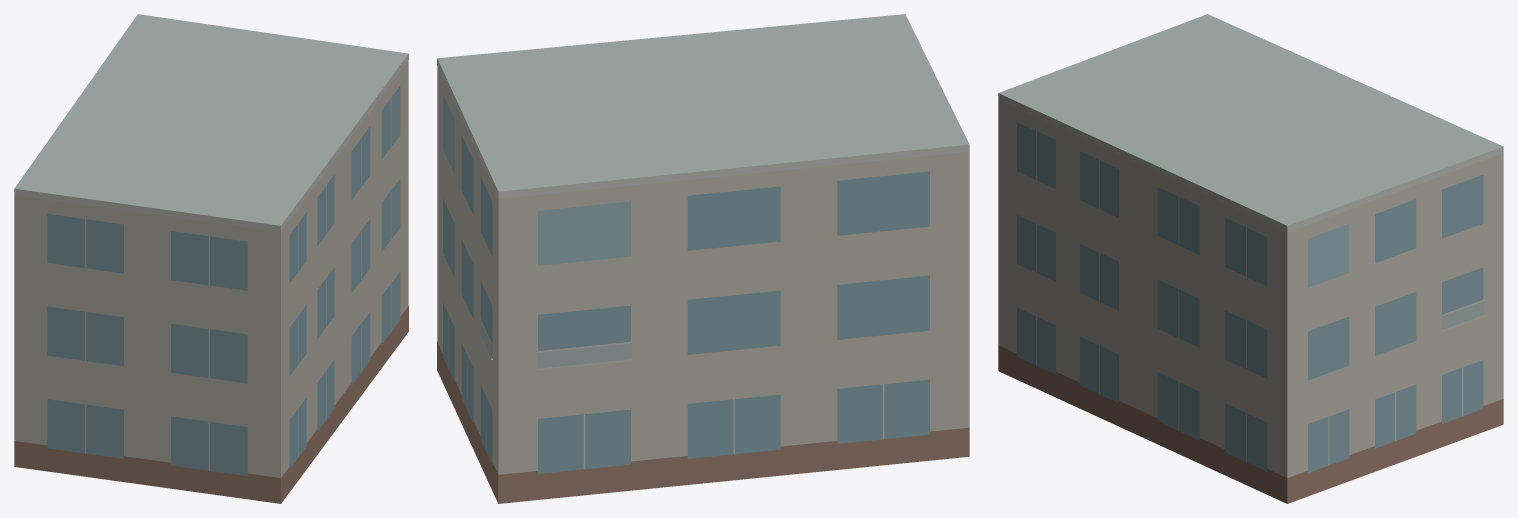
The model's file is survey-upis-32839589.glb.
3 views of the same model, side by side, from view 1: azimuth 30°, elevation 25°; view 2: azimuth 150°, elevation 25°; view 3: azimuth 270°, elevation 25° (orthographic). The views are drawn at different scales.
Parts seen in each view (by area): view 1: survey-upis-32839589.tmp; view 2: survey-upis-32839589.tmp; view 3: survey-upis-32839589.tmp.
Part boxes in pixels (x1=…): survey-upis-32839589.tmp: x1=14, y1=14, x2=408, y2=503; survey-upis-32839589.tmp: x1=437, y1=14, x2=969, y2=503; survey-upis-32839589.tmp: x1=998, y1=14, x2=1503, y2=503.
Bounding box in the file's own units: 17.17 × 10.5 × 17.31.
